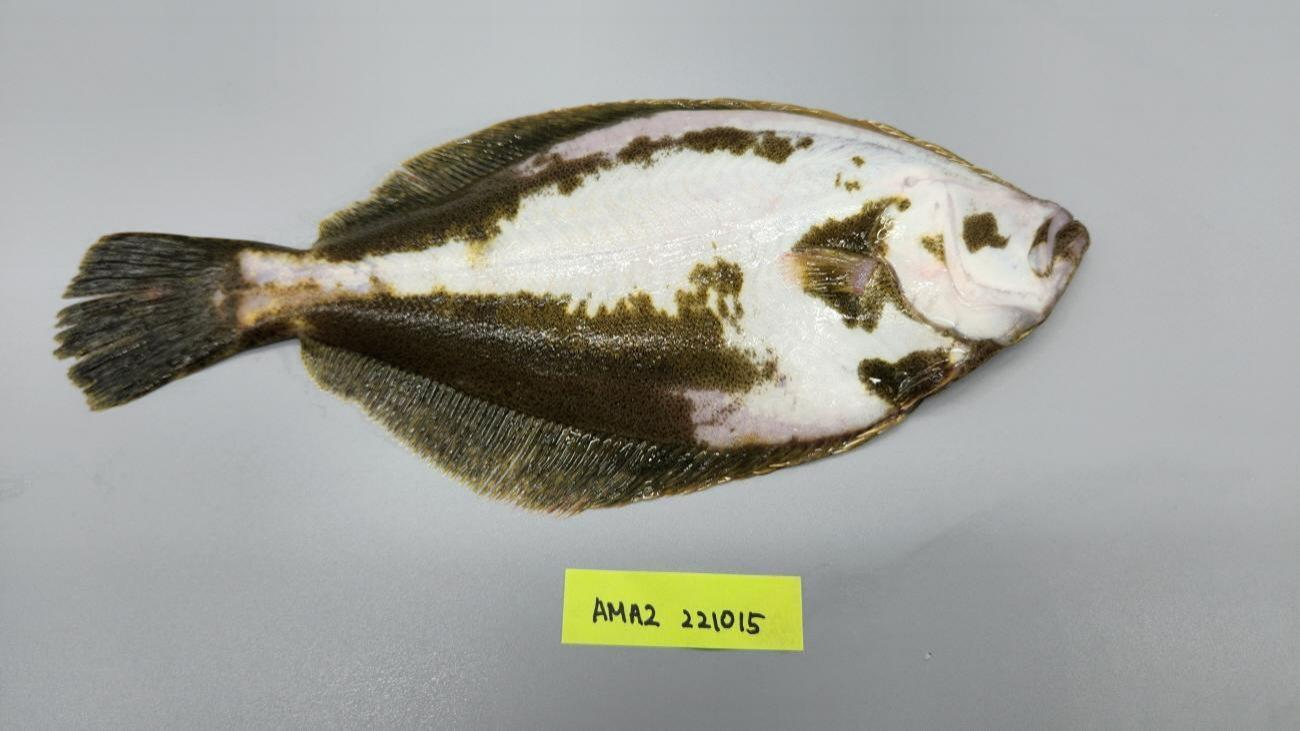MAFCH: (88, 280, 179, 359), (92, 233, 142, 254)
MAOUY: (52, 99, 1092, 516)
